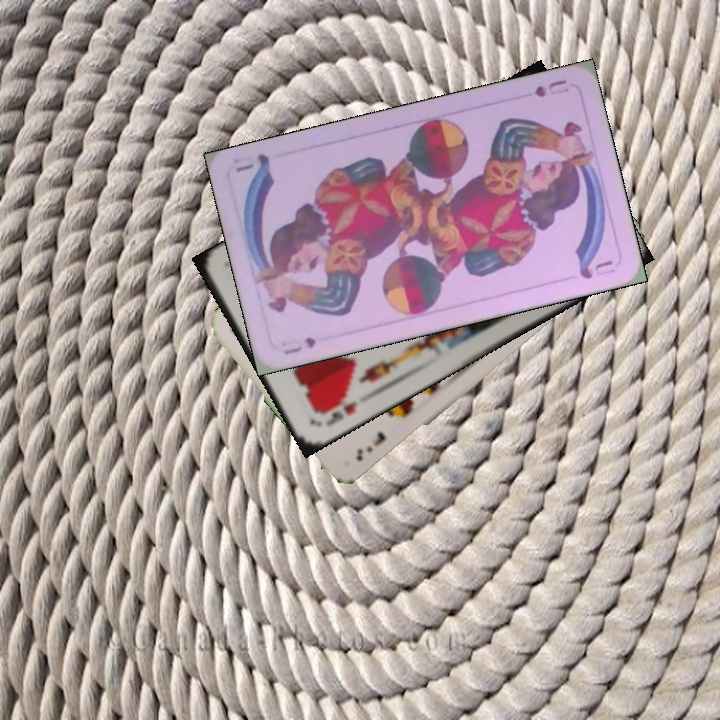E7: (352, 427, 389, 464)
HK: (322, 397, 361, 429)
SU: (530, 75, 572, 100), (280, 333, 319, 357)
